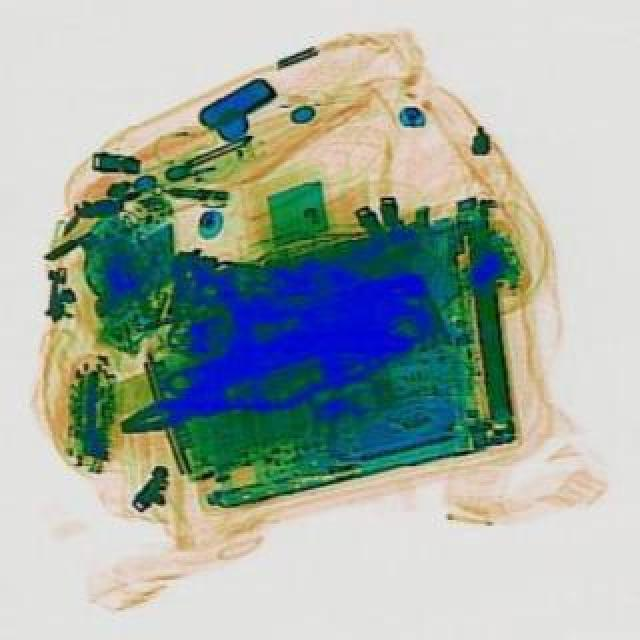wrench: (104, 320, 328, 460)
